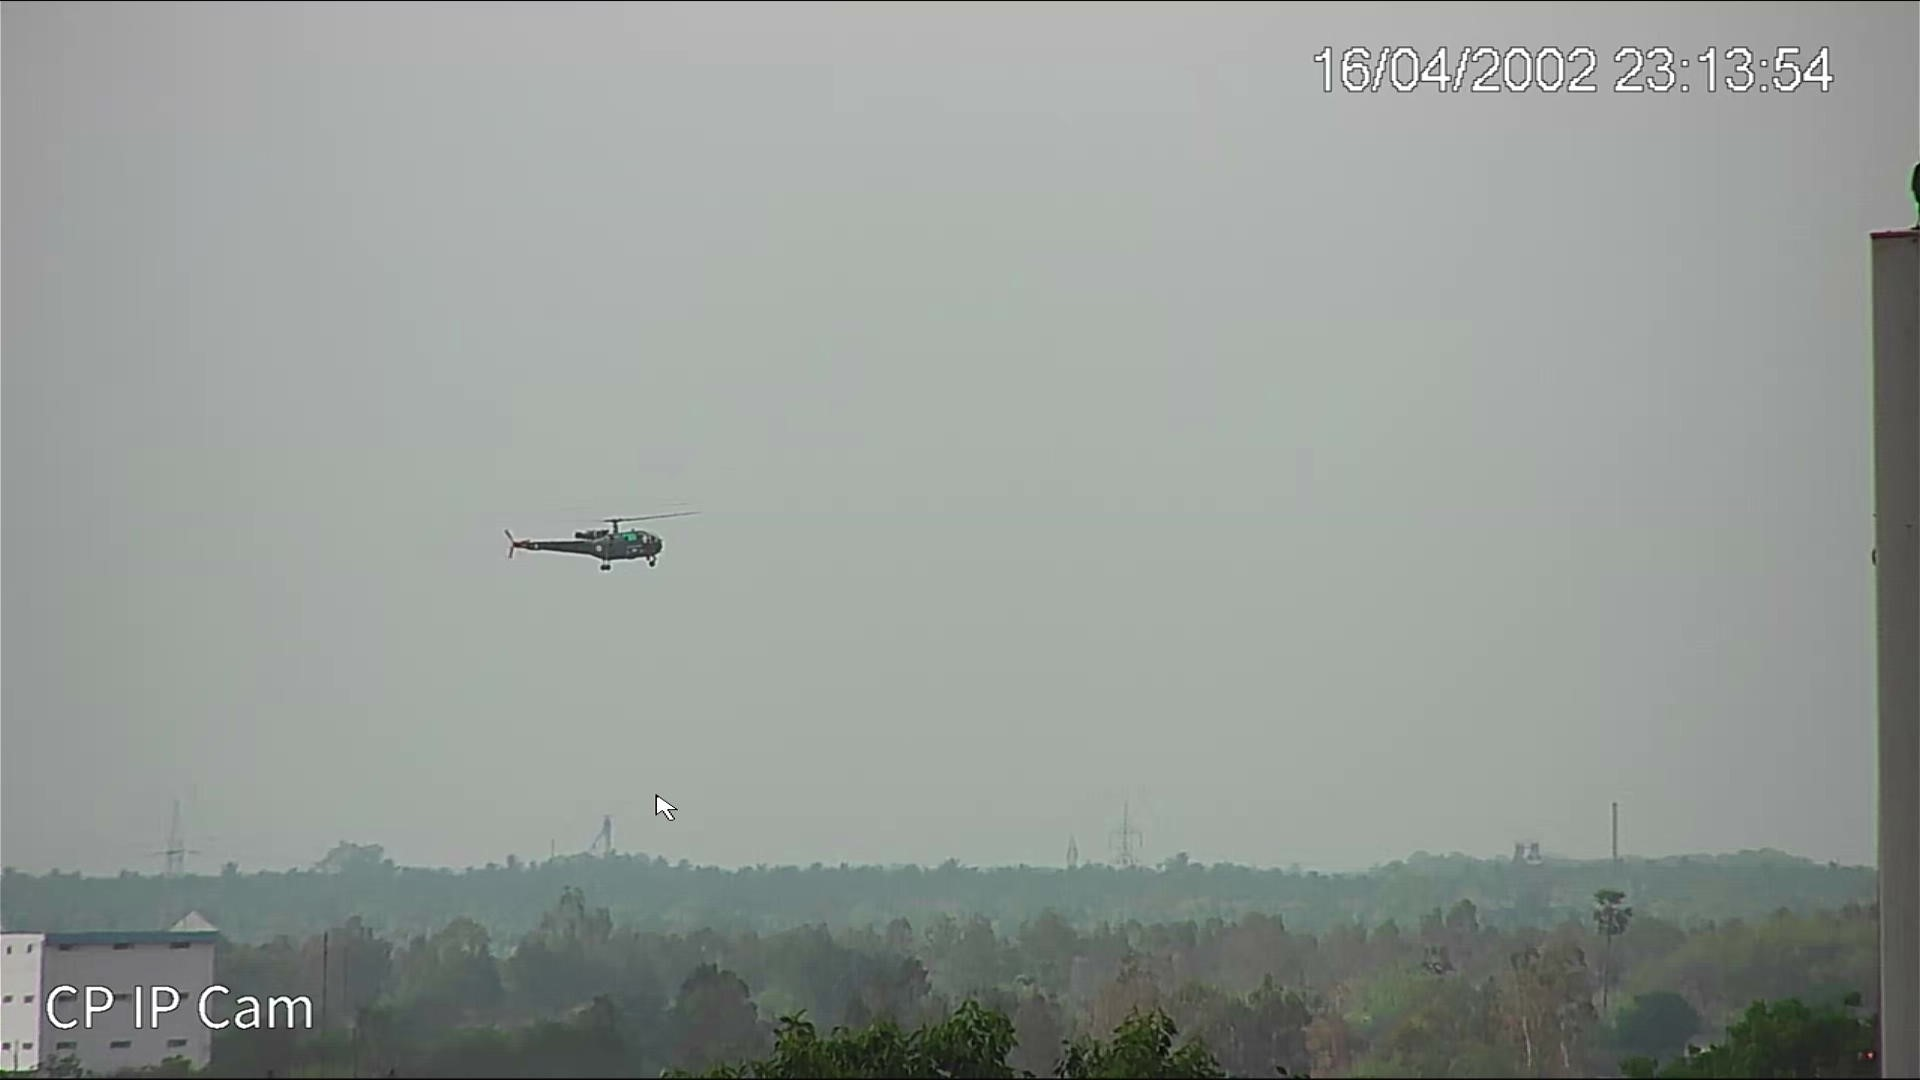SU_30: (504, 513, 665, 574)
